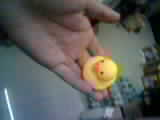duck: (73, 49, 124, 96)
